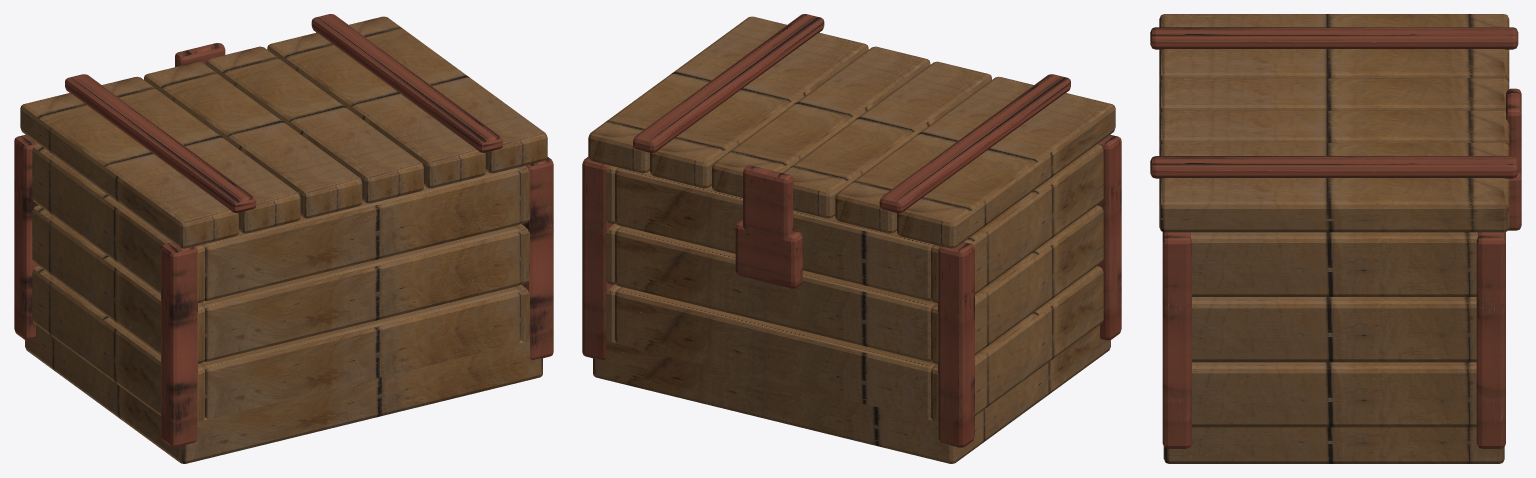
File: interactive-chest.glb
The picture shows the model from 3 angles, left to right: view 1: azimuth 30°, elevation 25°; view 2: azimuth 150°, elevation 25°; view 3: azimuth 270°, elevation 25°; orthographic projection. The views are drawn at different scales.
Parts seen in each view (by area): view 1: Chest floor, Lid oak plank, Chest corner brace, Lid iron strap; view 2: Chest floor, Lid oak plank, Chest corner brace, Lid iron strap; view 3: Chest floor, Lid oak plank, Lid iron strap, Chest corner brace.
Part boxes in pixels (x1,y1,x2,y2): Chest floor: (25, 144, 542, 463); Lid oak plank: (20, 16, 547, 248); Chest corner brace: (14, 134, 553, 447); Lid iron strap: (65, 14, 502, 213); Chest floor: (593, 144, 1110, 463); Lid oak plank: (588, 16, 1115, 248); Chest corner brace: (582, 134, 1121, 447); Lid iron strap: (633, 14, 1070, 245); Chest floor: (1163, 232, 1504, 463); Lid oak plank: (1159, 14, 1509, 232); Lid iron strap: (1150, 27, 1521, 178); Chest corner brace: (1162, 172, 1521, 448).
Bounding box in the file's own units: 1.06 × 0.6775 × 0.8275.
Materials: 2 (2 with a texture image).
